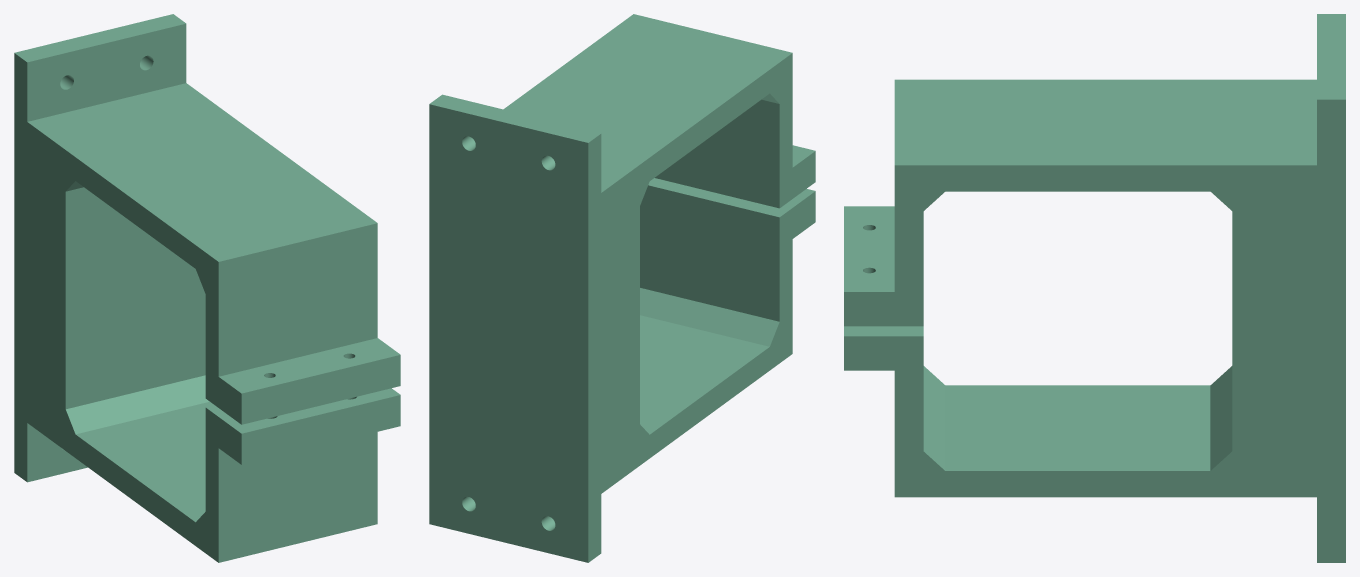
The picture shows the model from 3 angles, left to right: view 1: azimuth 30°, elevation 25°; view 2: azimuth 150°, elevation 25°; view 3: azimuth 270°, elevation 25°; orthographic projection. The views are drawn at different scales.
Visible parts, largest first — view 1: W15_nema17_body_clamp_rotation; view 2: W15_nema17_body_clamp_rotation; view 3: W15_nema17_body_clamp_rotation.
Boxes of the visible parts, bbox=[...] form: W15_nema17_body_clamp_rotation: bbox=[14, 14, 400, 562]; W15_nema17_body_clamp_rotation: bbox=[429, 14, 815, 562]; W15_nema17_body_clamp_rotation: bbox=[844, 14, 1345, 562].
Bounding box in the file's own units: 28 × 70.6 × 69.3.
